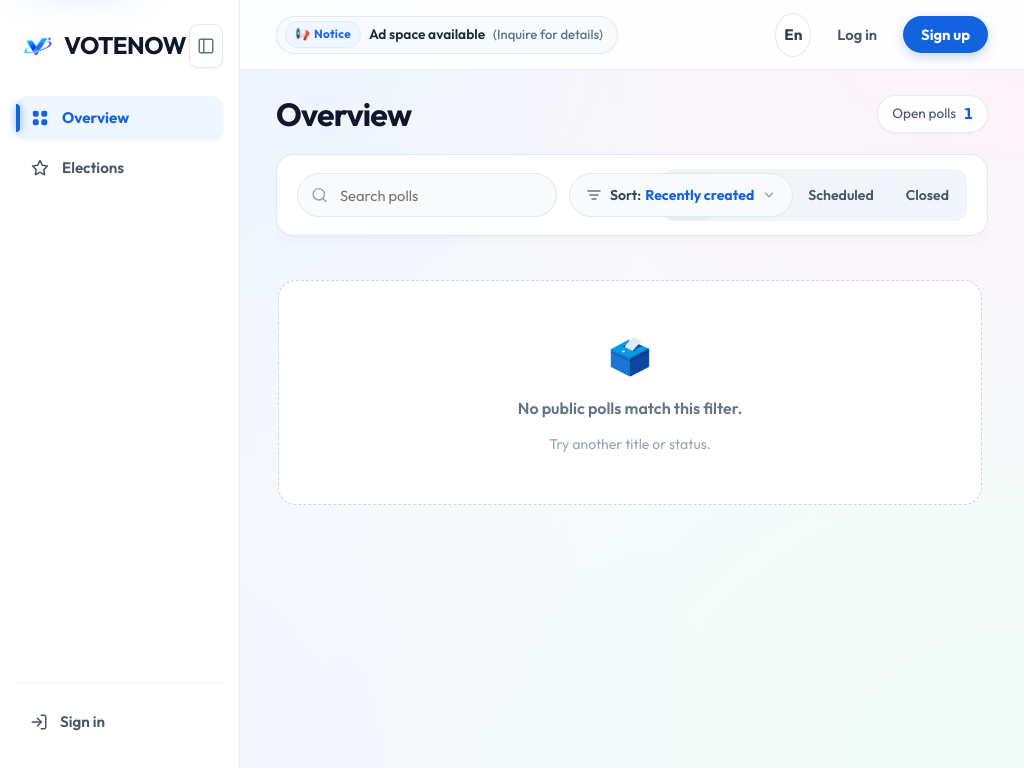
Test: AppLayout › 顶栏独立展示语言切换按钮，支持英语、简体中文和繁体中文切换
This screenshot has width=1024, height=768.
Check: the link "Log in" is shown, box [837,25,877,44]
Check: the link "Sign up" is shown, box [903,16,988,53]
Click the button named "Language": (793, 34) [775,12,811,56]
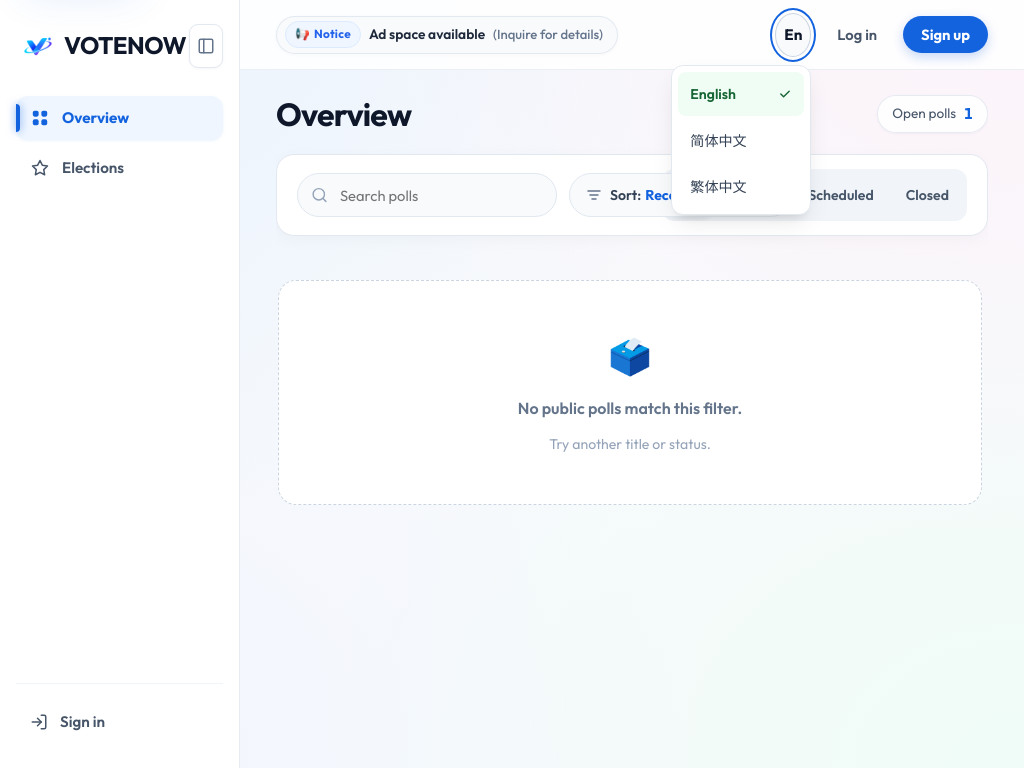
Check: the option "English" is shown, box [678,72,804,116]
Check: the option "简体中文" is shown
Check: the option "繁体中文" is shown, box [678,164,804,208]
Click the option "简体中文": (741, 140) [678,118,804,162]
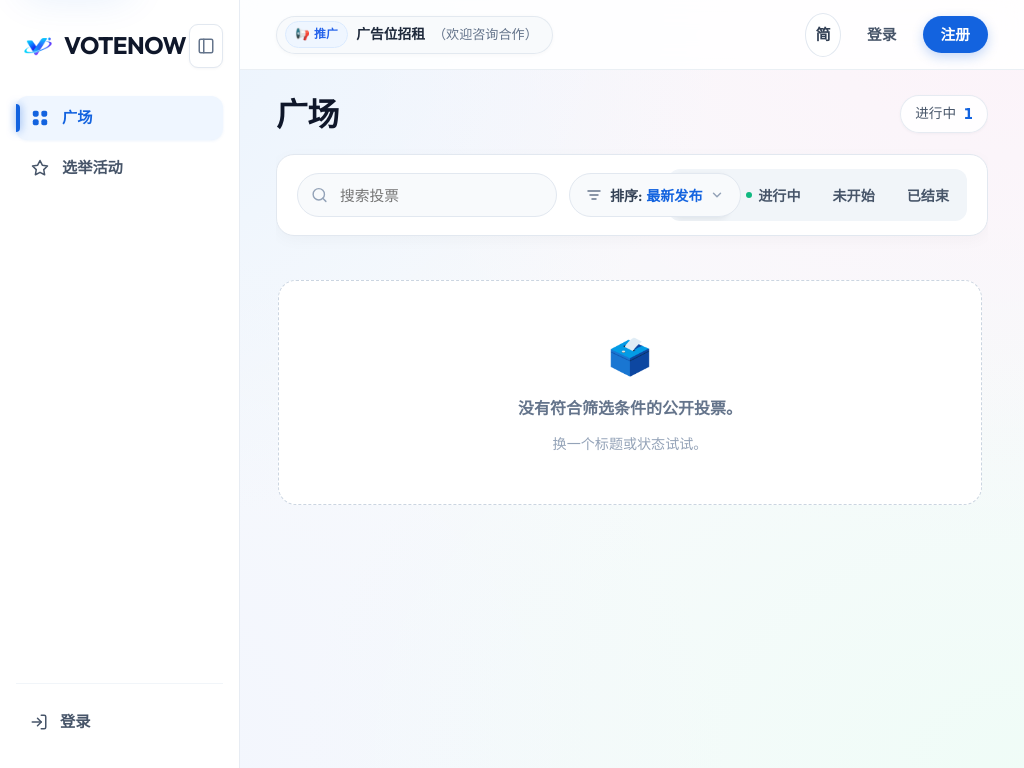
Check: the button named "Language" reads "简"
Click the button named "Language": (823, 34) [805,12,841,56]
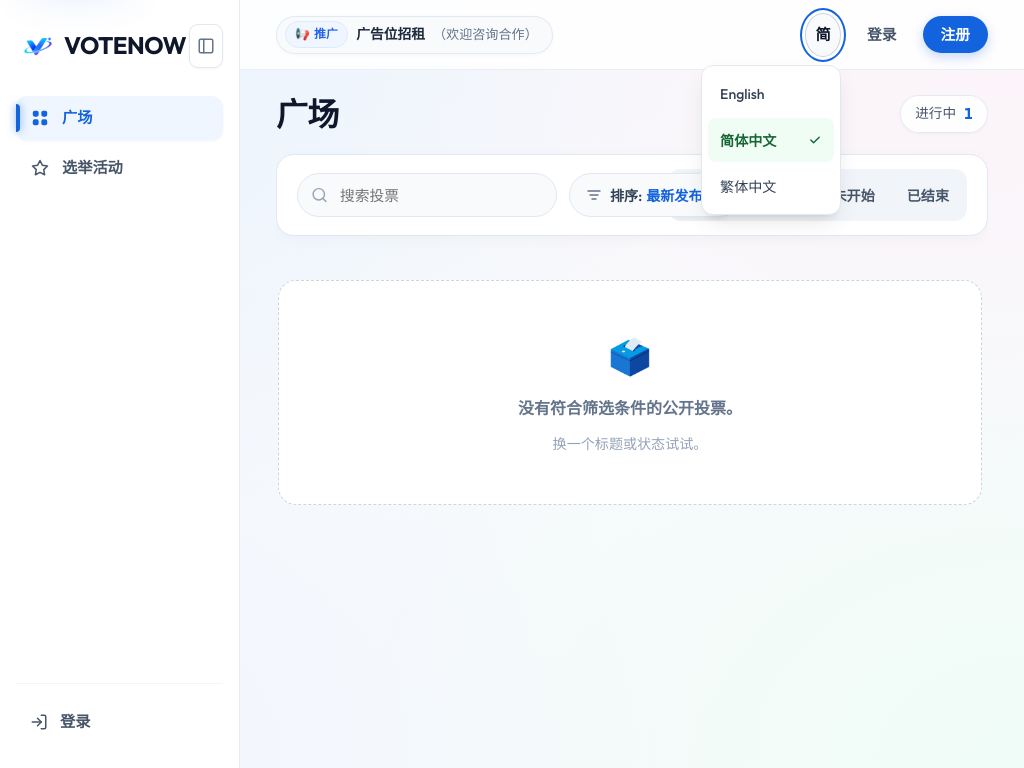
Click the option "繁体中文": (771, 186) [708,164,834,208]
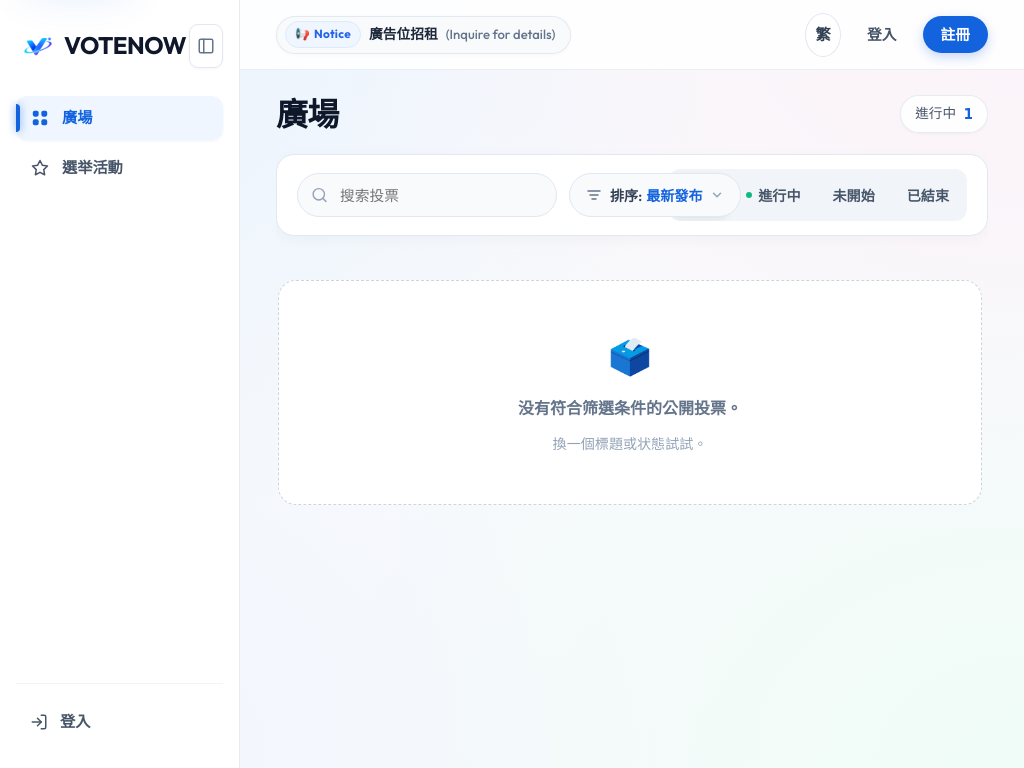
Check: the button named "Language" reads "繁", box [805,12,841,56]
